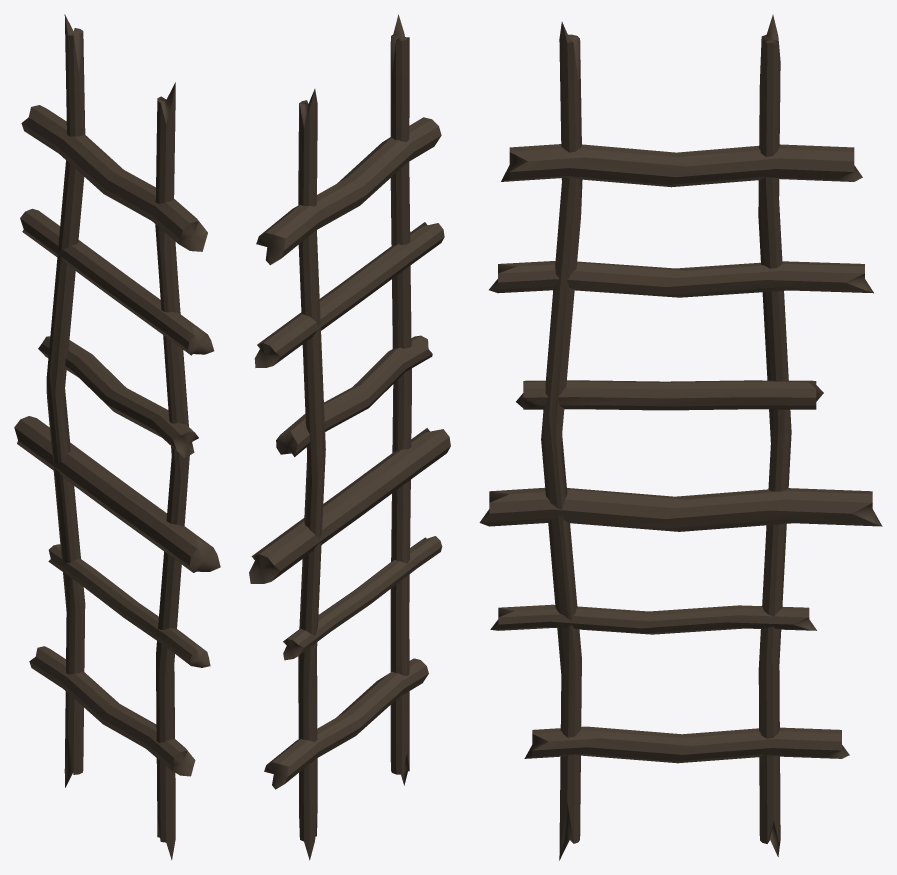
Rendered from Ladder_kleur.fbx.
3 views of the same model, side by side, from view 1: azimuth 30°, elevation 25°; view 2: azimuth 150°, elevation 25°; view 3: azimuth 270°, elevation 25° (orthographic). The views are drawn at different scales.
Visible parts, largest first — view 1: pCylinder9; view 2: pCylinder9; view 3: pCylinder9.
Part boxes in pixels (x1,y1,x2,y2): pCylinder9: (14,14,220,860); pCylinder9: (249,14,450,860); pCylinder9: (479,14,882,860).
Bounding box in the file's own units: 0.8773 × 16.98 × 7.37.
